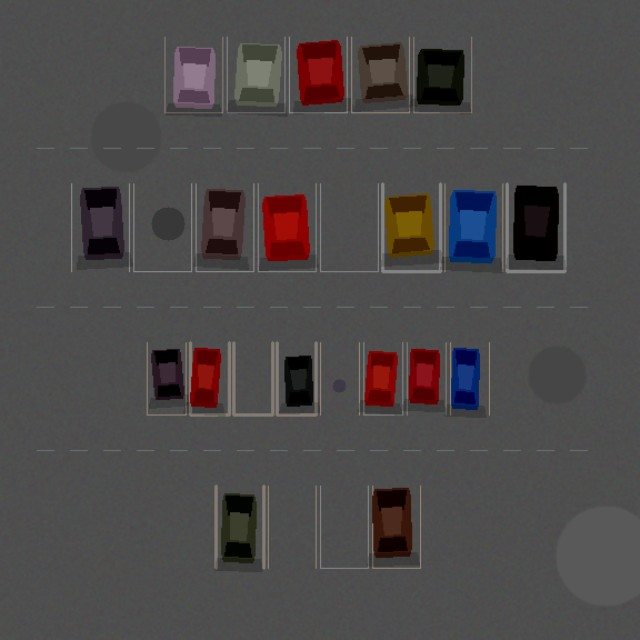space-empty: (133, 183, 191, 271), (320, 183, 378, 271), (268, 486, 316, 568), (320, 486, 368, 568), (233, 342, 272, 414), (320, 342, 359, 414)
space-occupied: (71, 183, 129, 271), (258, 183, 316, 271), (382, 183, 440, 271), (444, 183, 502, 271), (196, 183, 253, 271), (507, 183, 564, 271), (164, 37, 222, 112), (289, 37, 347, 112), (351, 37, 409, 112), (413, 37, 471, 112), (227, 37, 284, 112), (372, 486, 420, 568), (216, 486, 263, 568), (147, 342, 186, 414), (190, 342, 229, 414), (277, 342, 316, 414), (363, 342, 402, 414), (407, 342, 446, 414), (450, 342, 489, 414)
